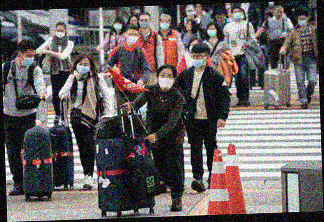mask_weared_incorrect: (217, 15, 226, 25)
with_mask: (158, 71, 175, 90), (190, 53, 206, 69), (21, 52, 36, 67), (125, 30, 139, 45), (76, 61, 90, 75), (138, 17, 151, 30), (188, 42, 200, 55), (159, 19, 171, 31), (232, 9, 243, 21), (55, 28, 66, 39), (112, 21, 124, 31), (297, 17, 308, 27), (206, 28, 217, 37), (186, 9, 194, 17), (241, 11, 246, 20)
without_mask: (274, 9, 285, 18), (184, 21, 193, 31), (195, 5, 204, 14), (130, 19, 139, 27), (227, 10, 234, 18)
